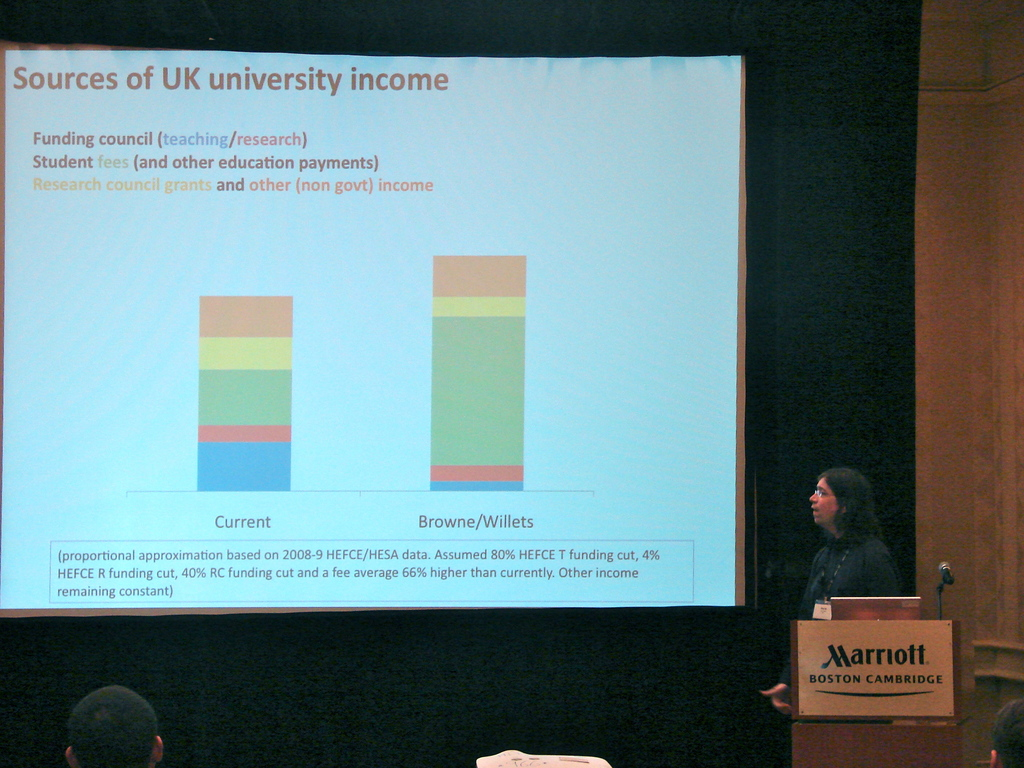Human_hand: (762, 683, 789, 712)
